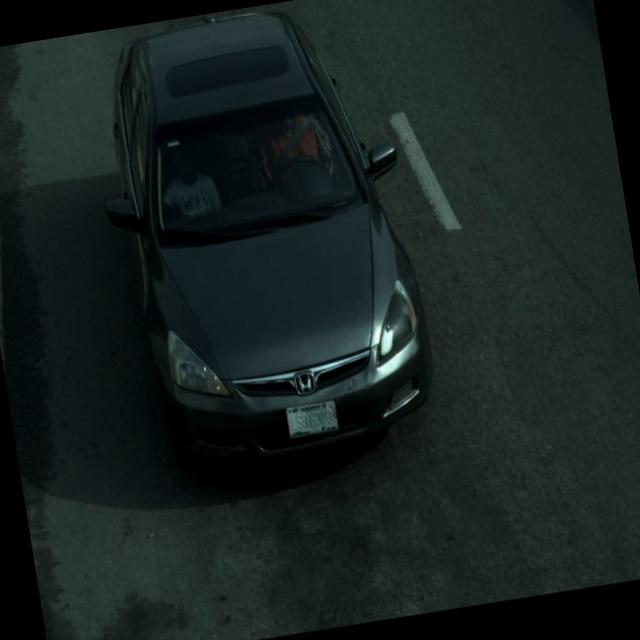person_with_seatbelt: (246, 97, 352, 230)
